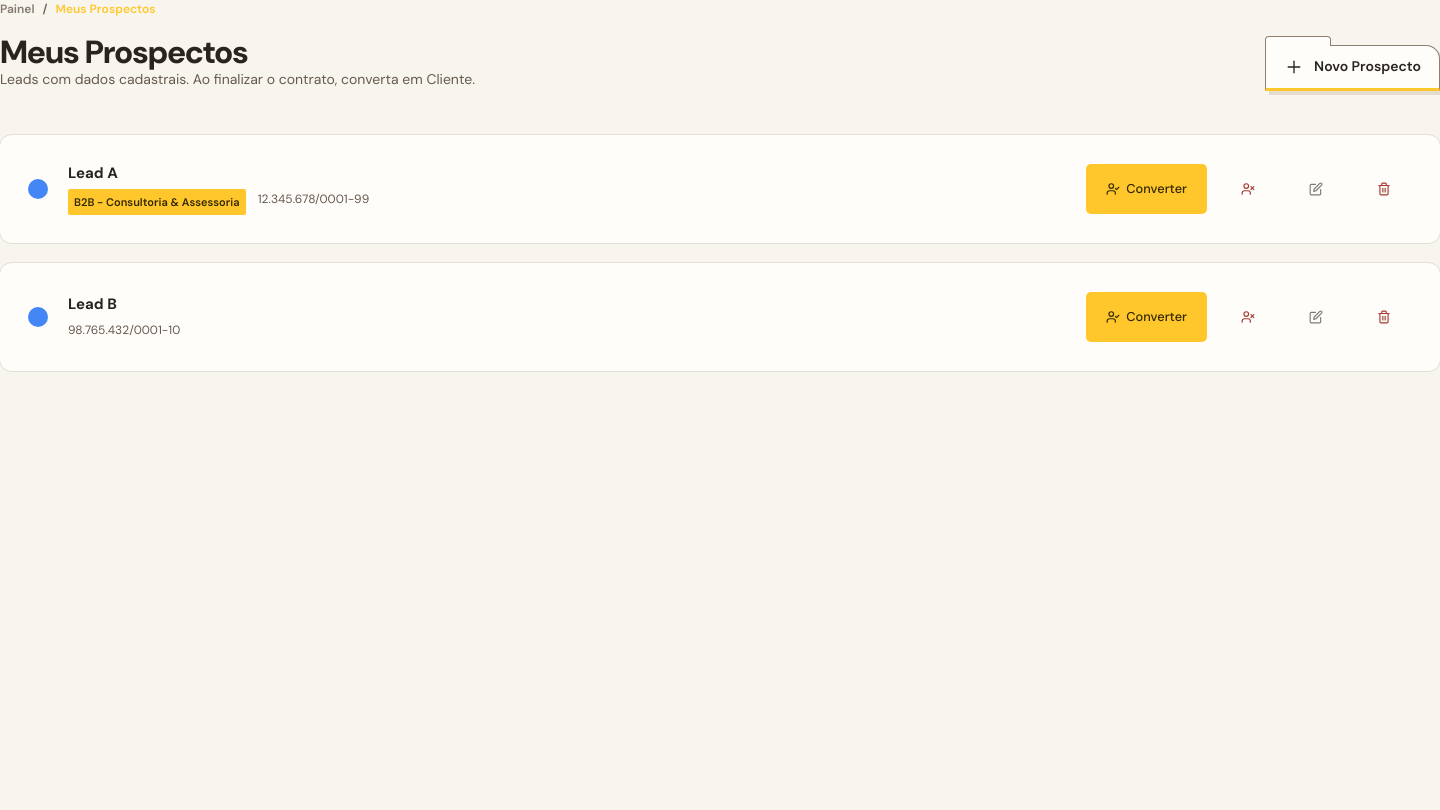
Test: ProspectosPage › arquiva um prospecto após confirmação e remove da lista
Click the button titled "Excluir" in the row of "12.345.678/0001-99" at (1384, 189), box [1356,163,1412,215]
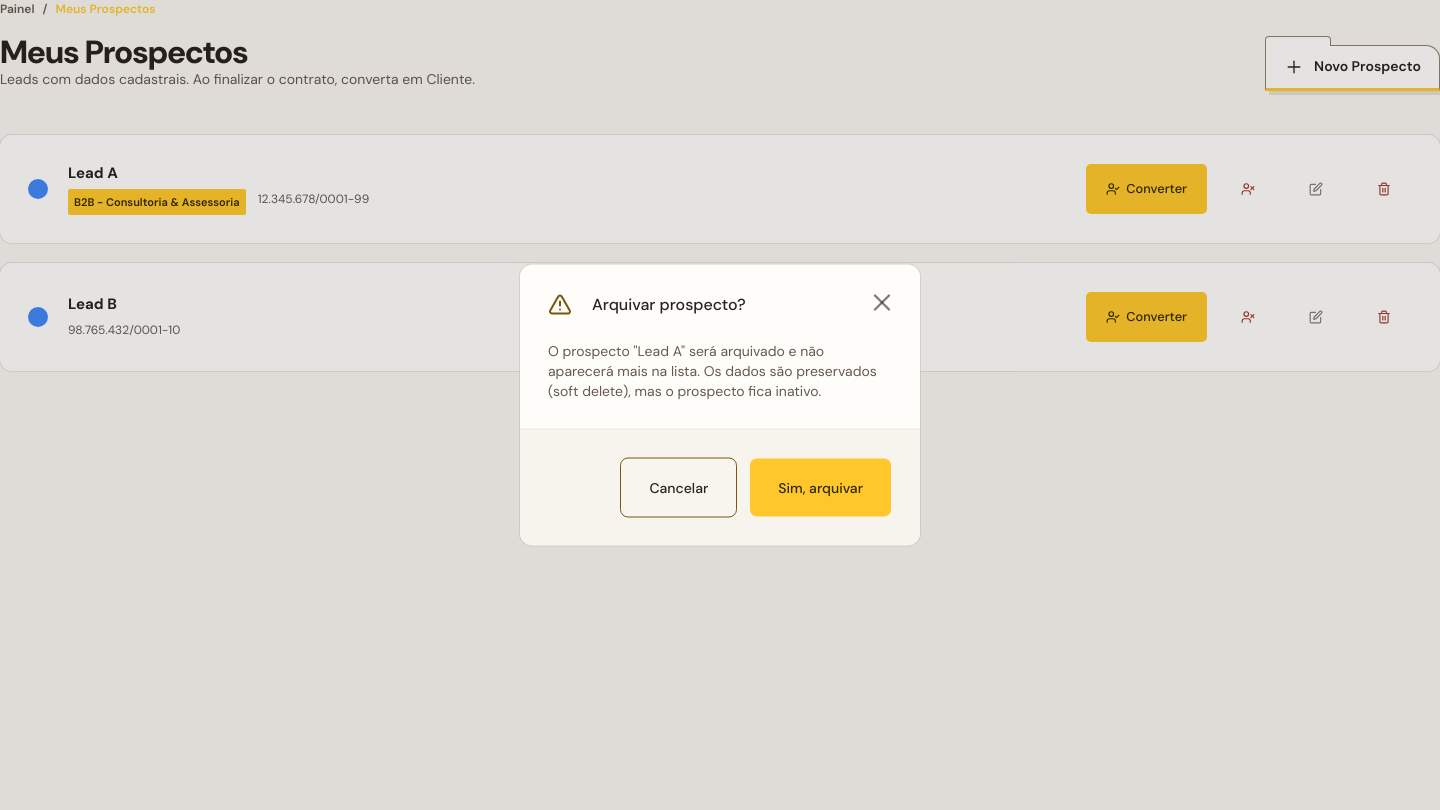
Click the button "Sim, arquivar" at (821, 488), box [749,458,892,518]
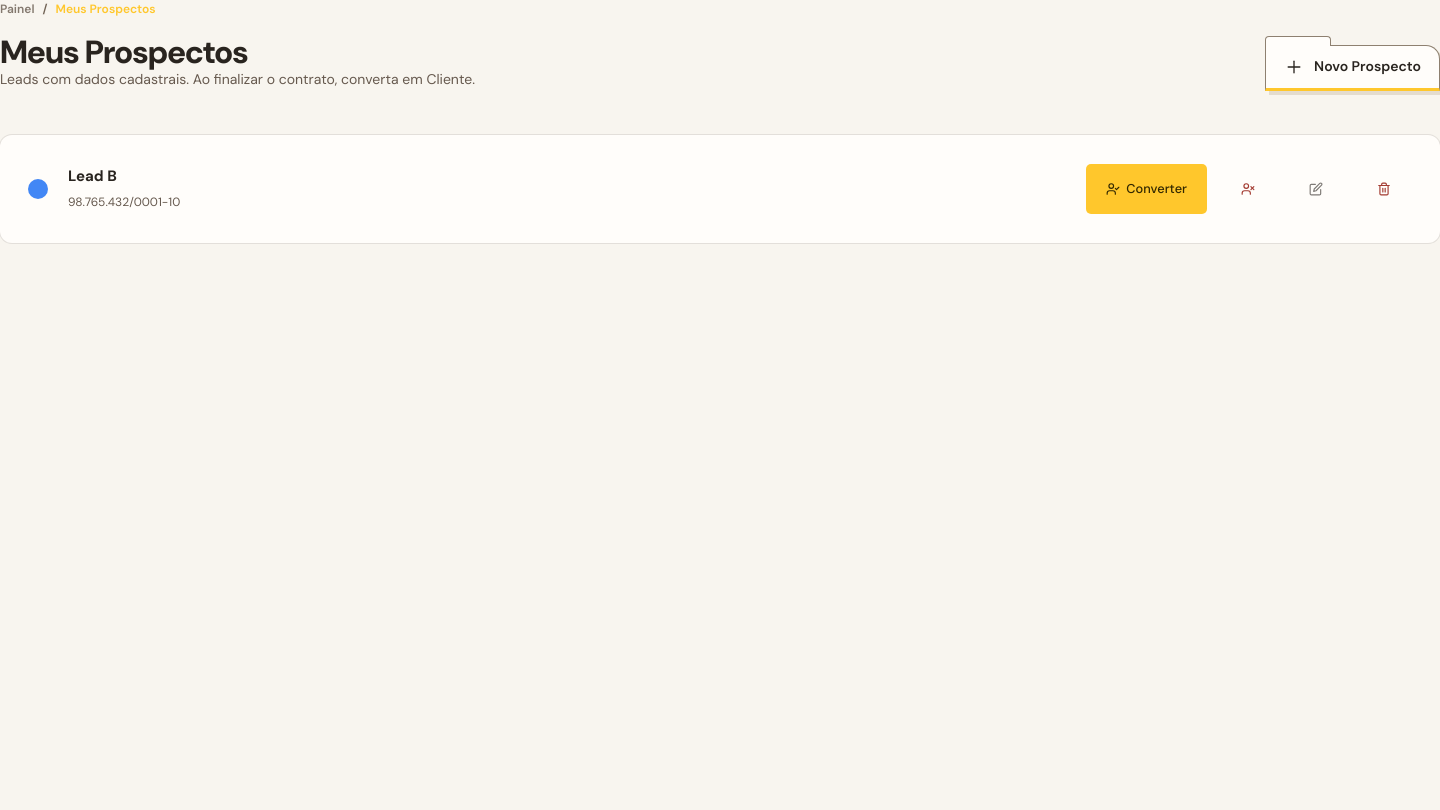
expect the text "Lead A" is gone: met
